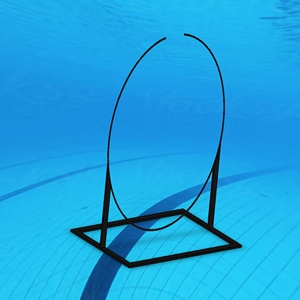circle: (67, 32, 245, 270)
